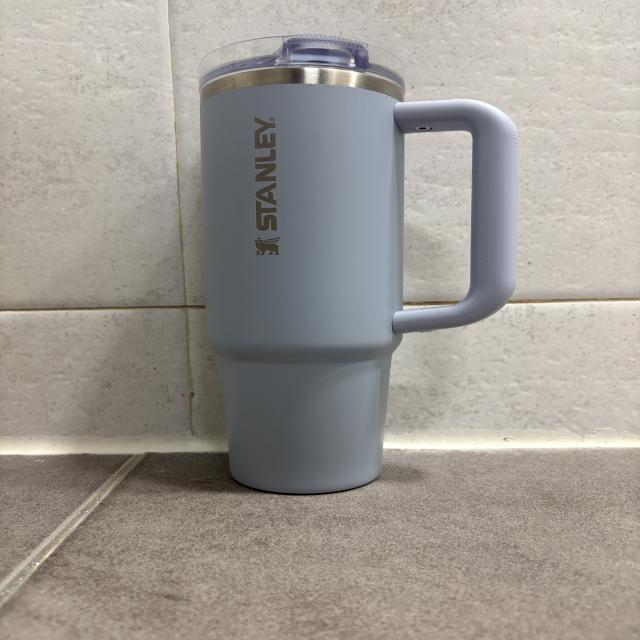waterbottle: (200, 36, 515, 495)
